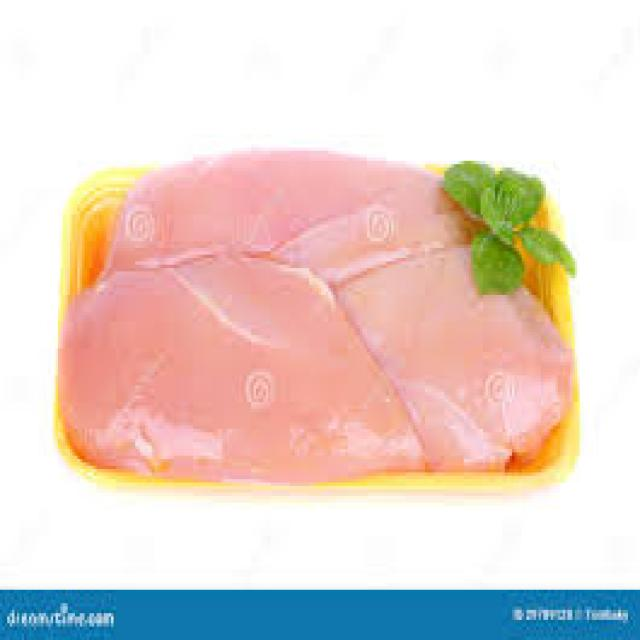Chicken: (119, 163, 559, 450), (73, 260, 409, 480)
